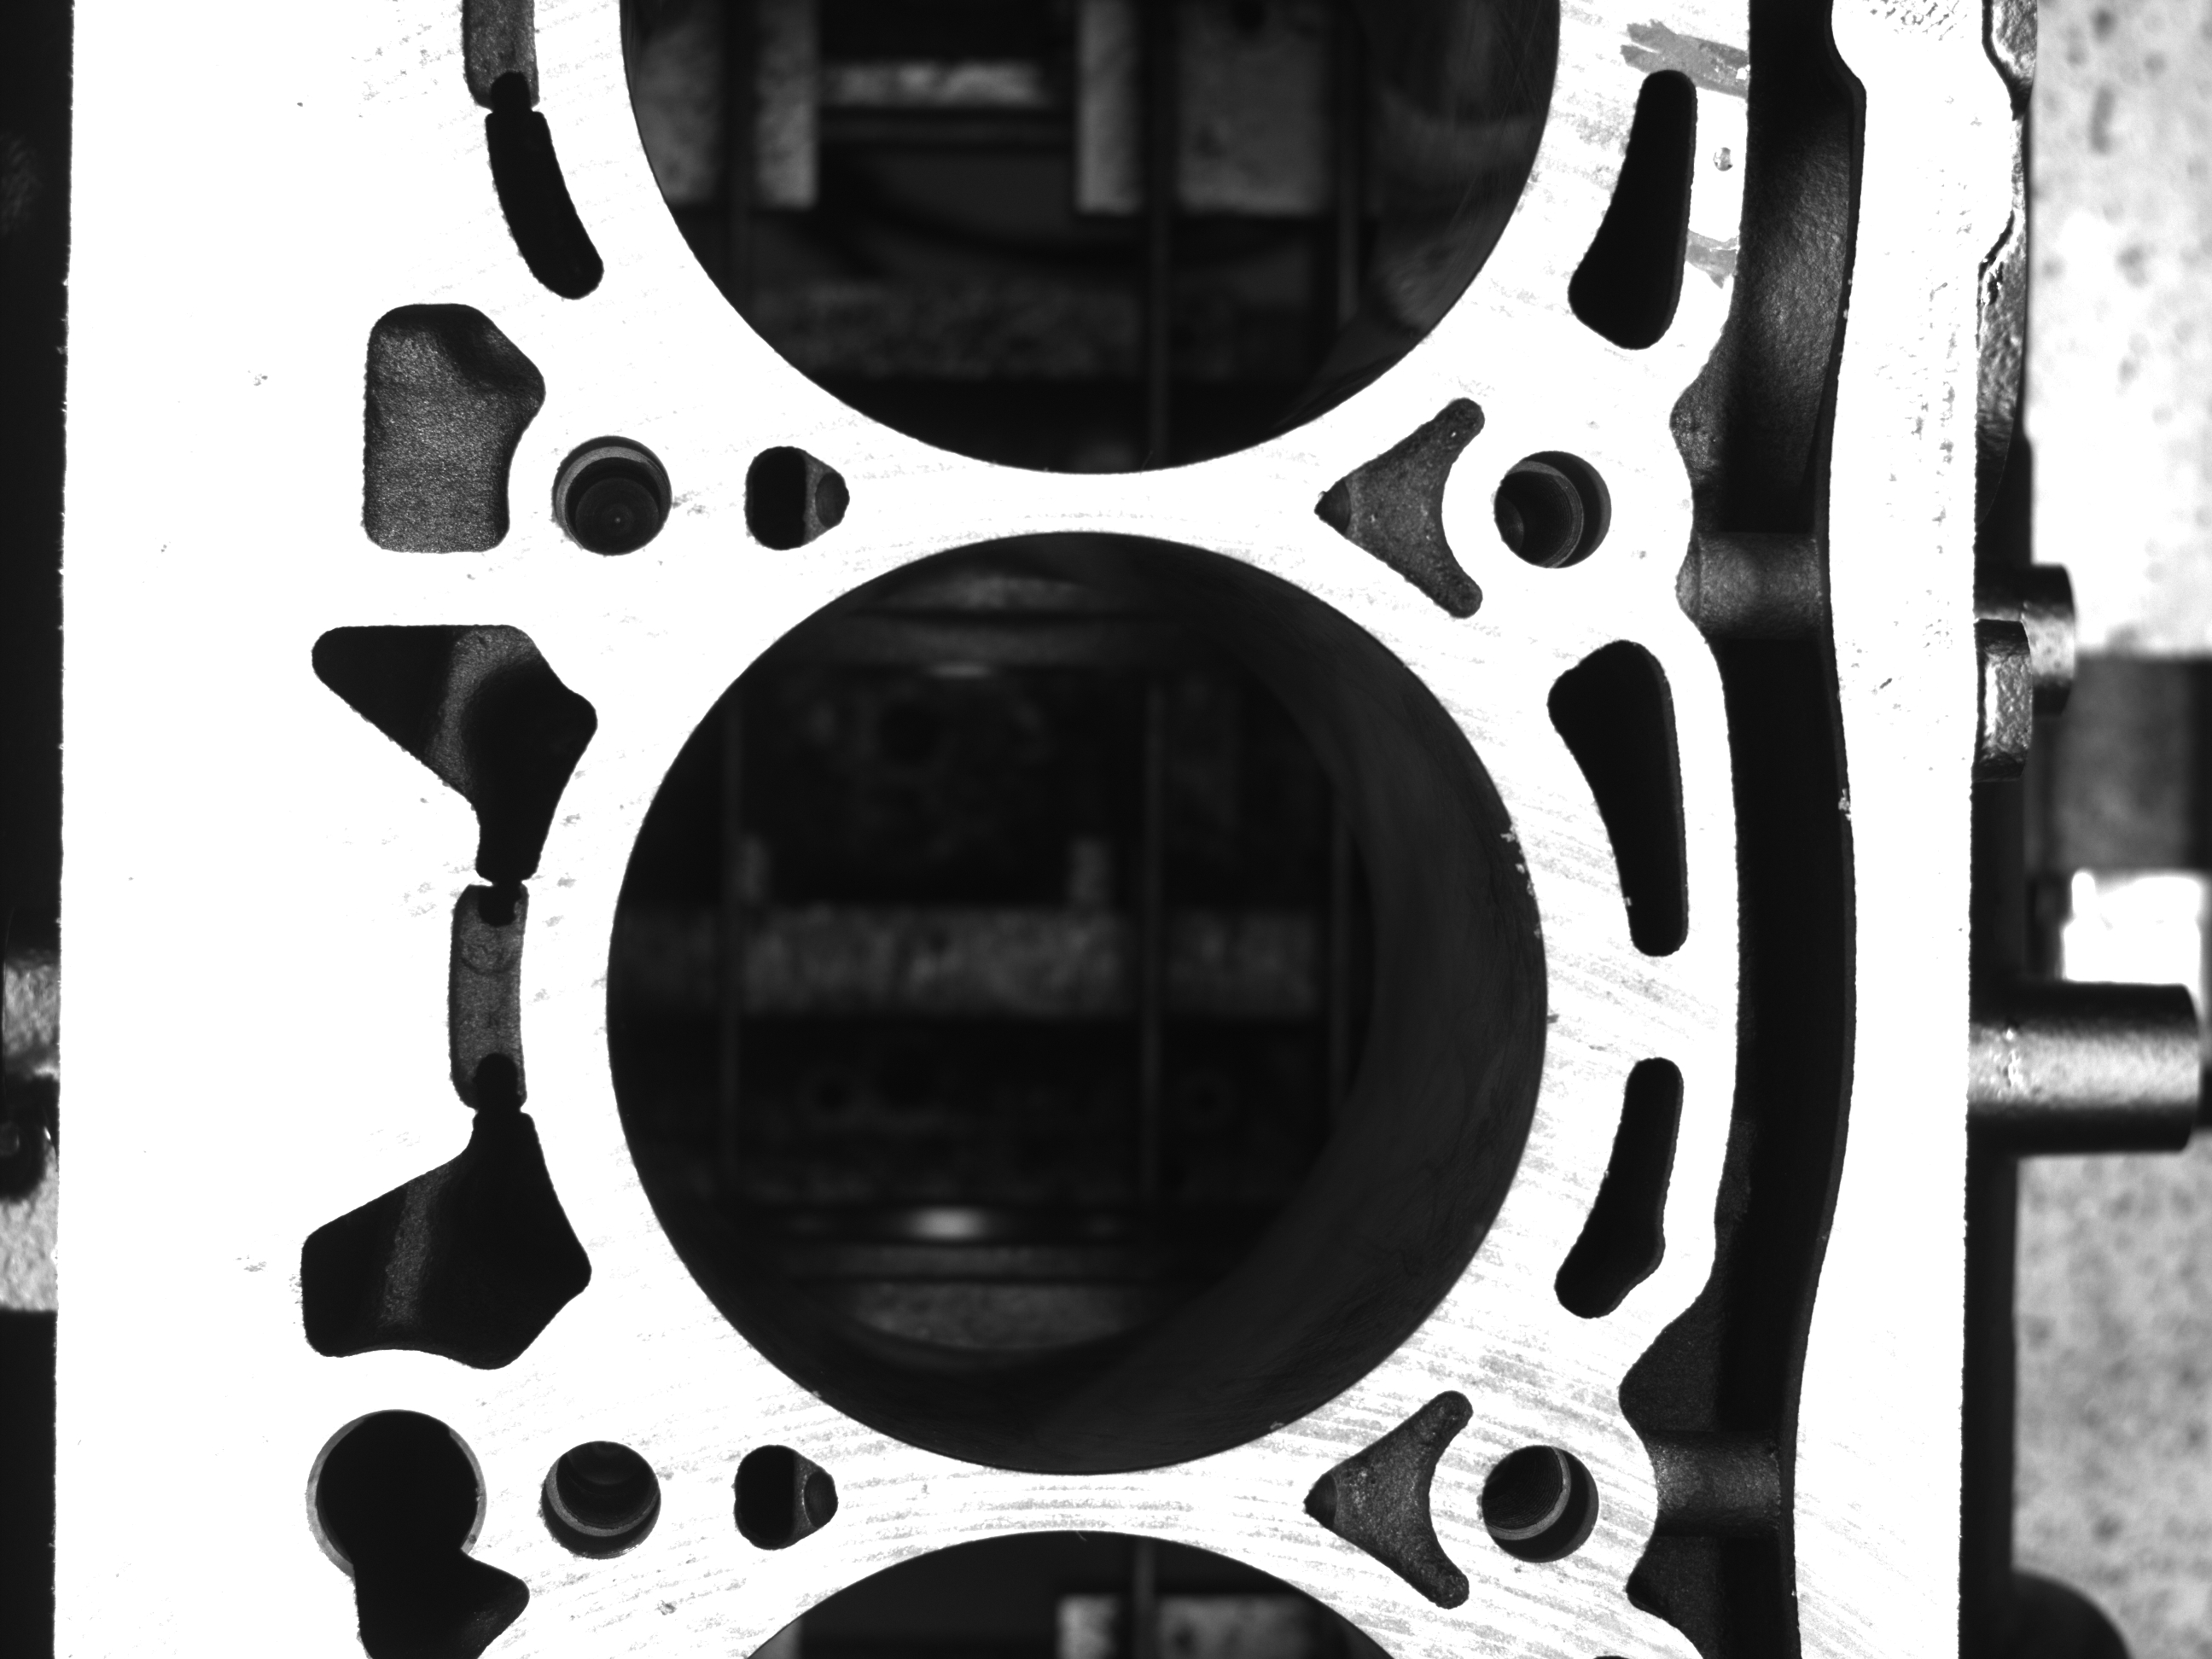crackle: (1705, 134, 1738, 179)
